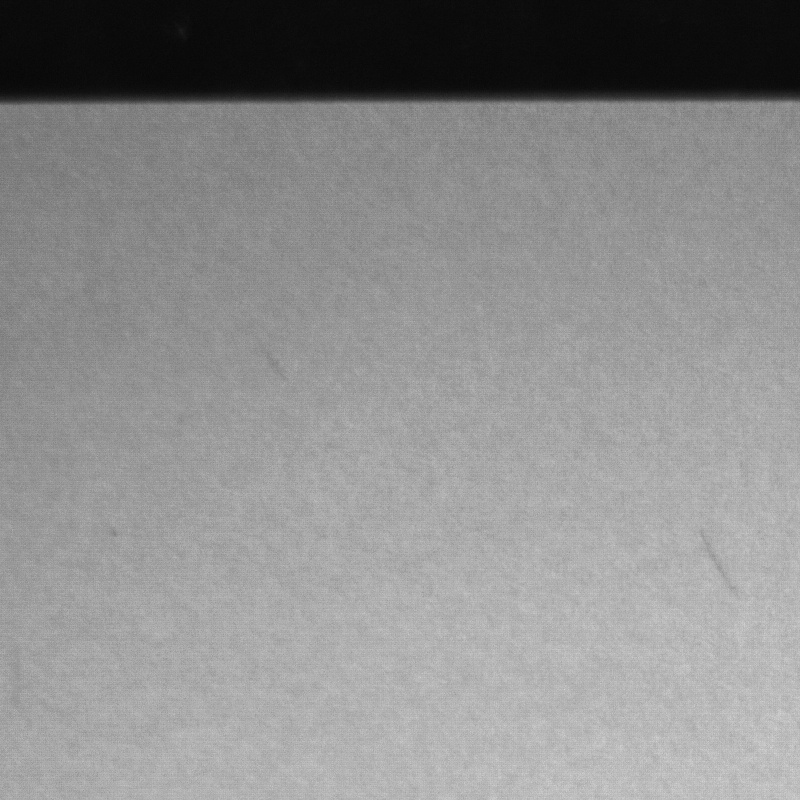defect: (701, 533, 745, 600), (269, 354, 292, 385), (107, 526, 121, 541)
